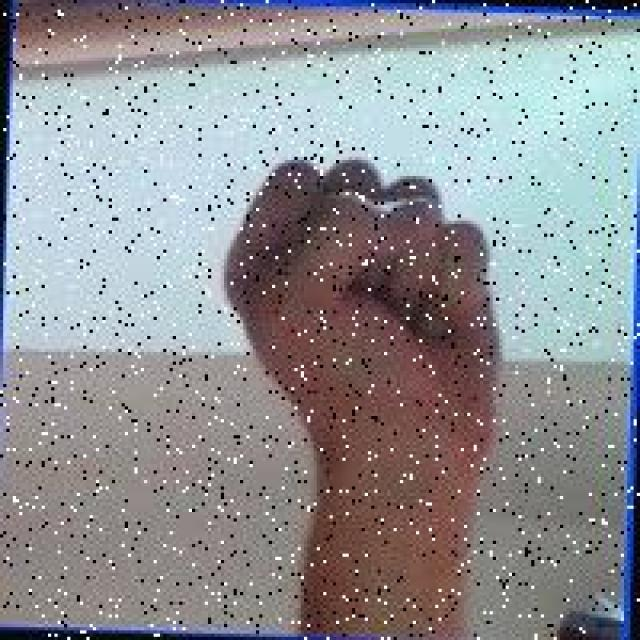S: (208, 140, 518, 490)
